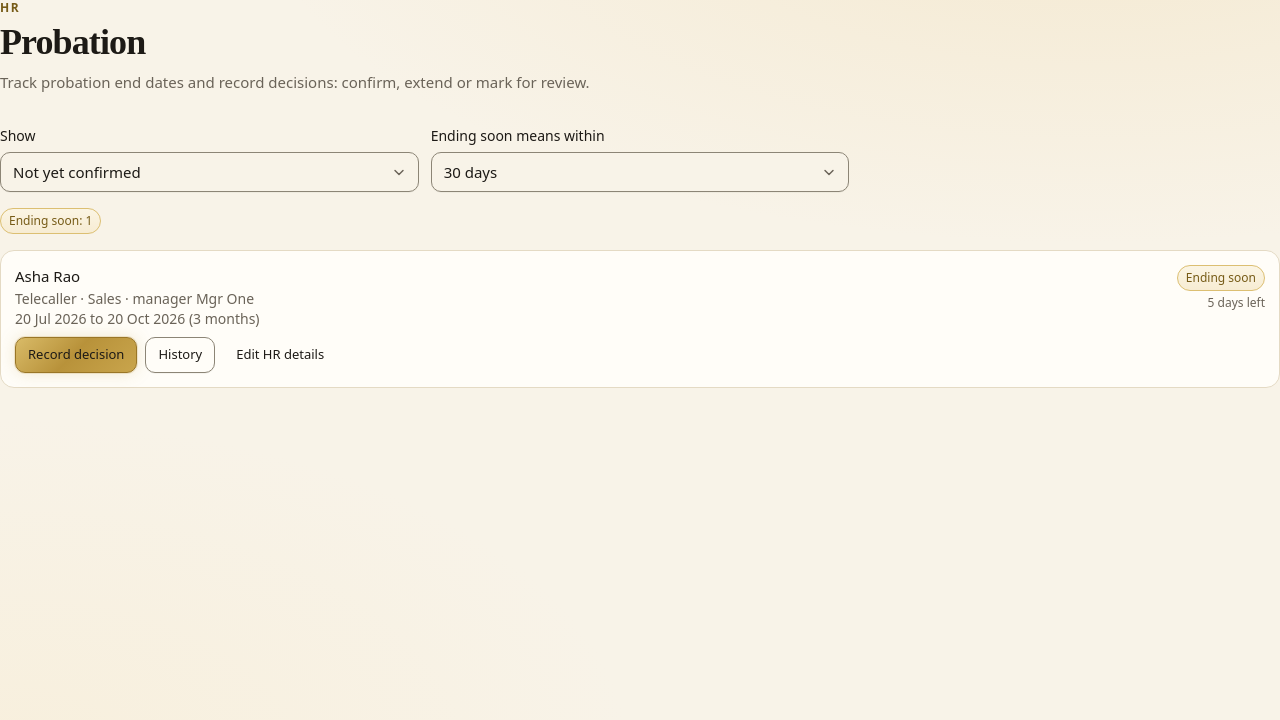
it: ProbationPage › sends the decision, shows success, and surfaces a server conflict without claiming success
Click the button "Record decision". click: (76, 354)
box: [15,336,137,372]
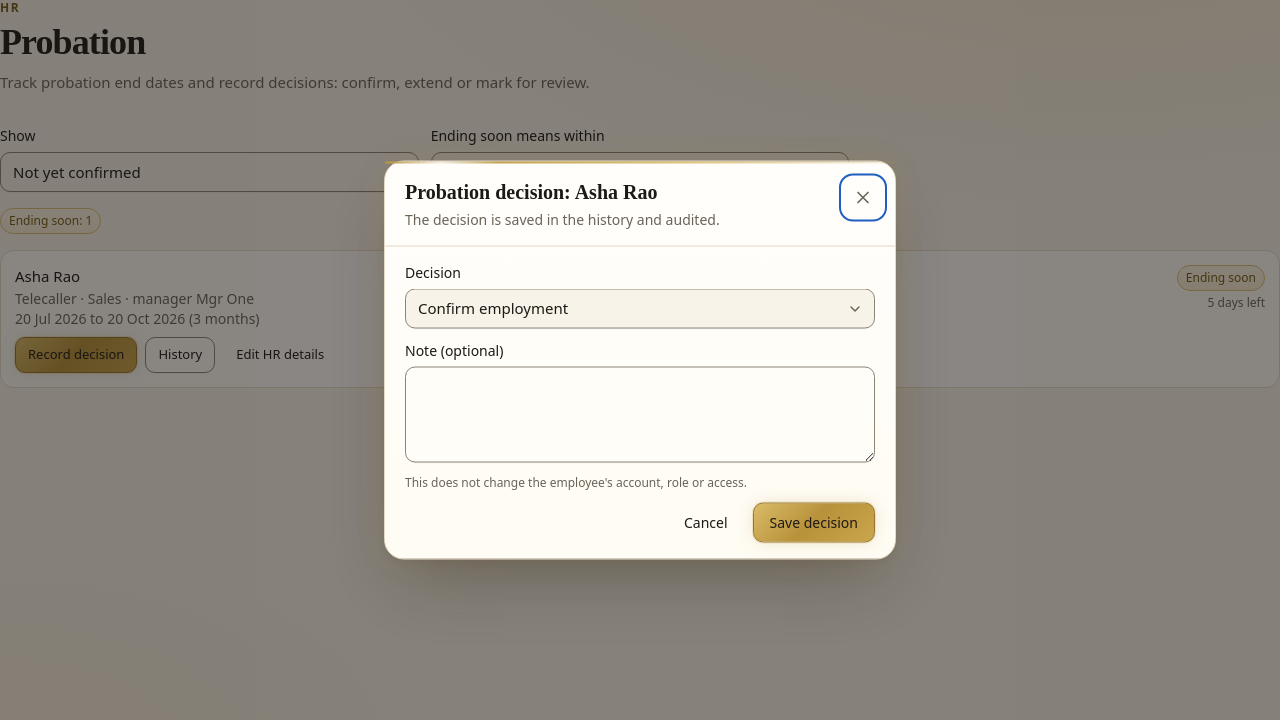
Click the button "Save decision". click: (814, 522)
box: [752,502,875,542]
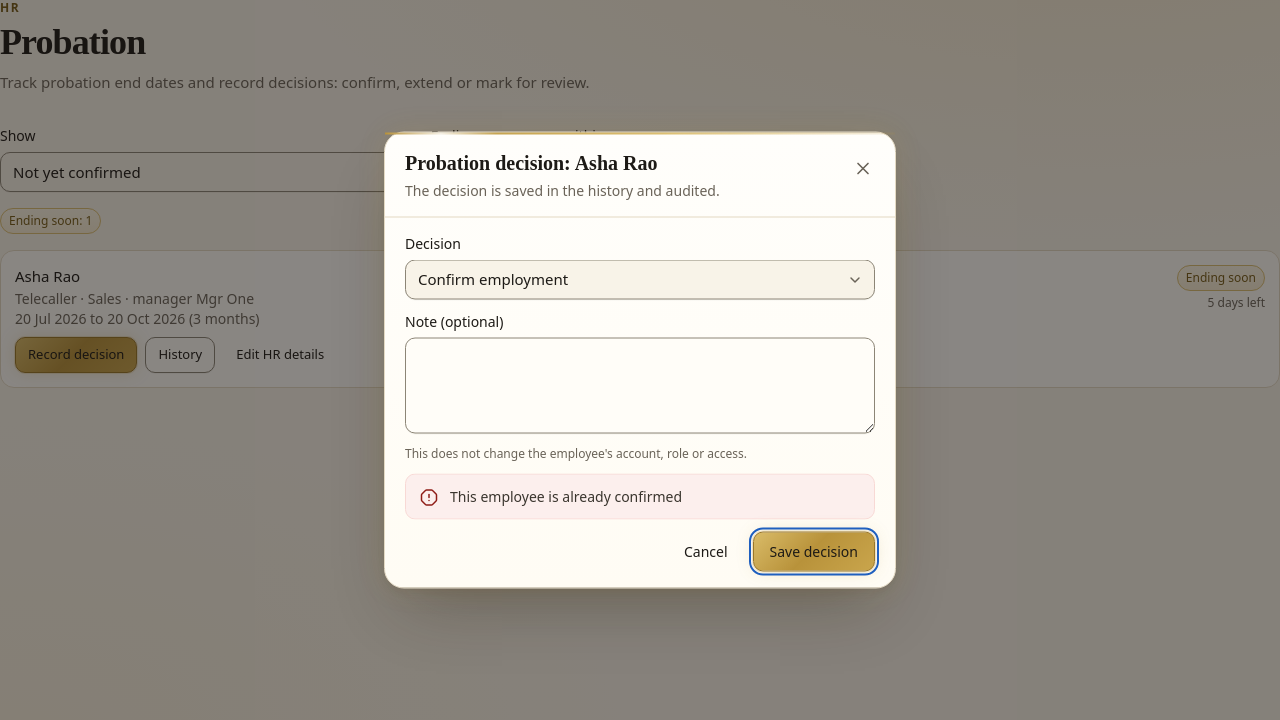
expect the text "This employee is already confirmed" is shown: met, box [450,486,682,506]
Click the button "Save decision". click: (814, 552)
box: [752,532,875,572]
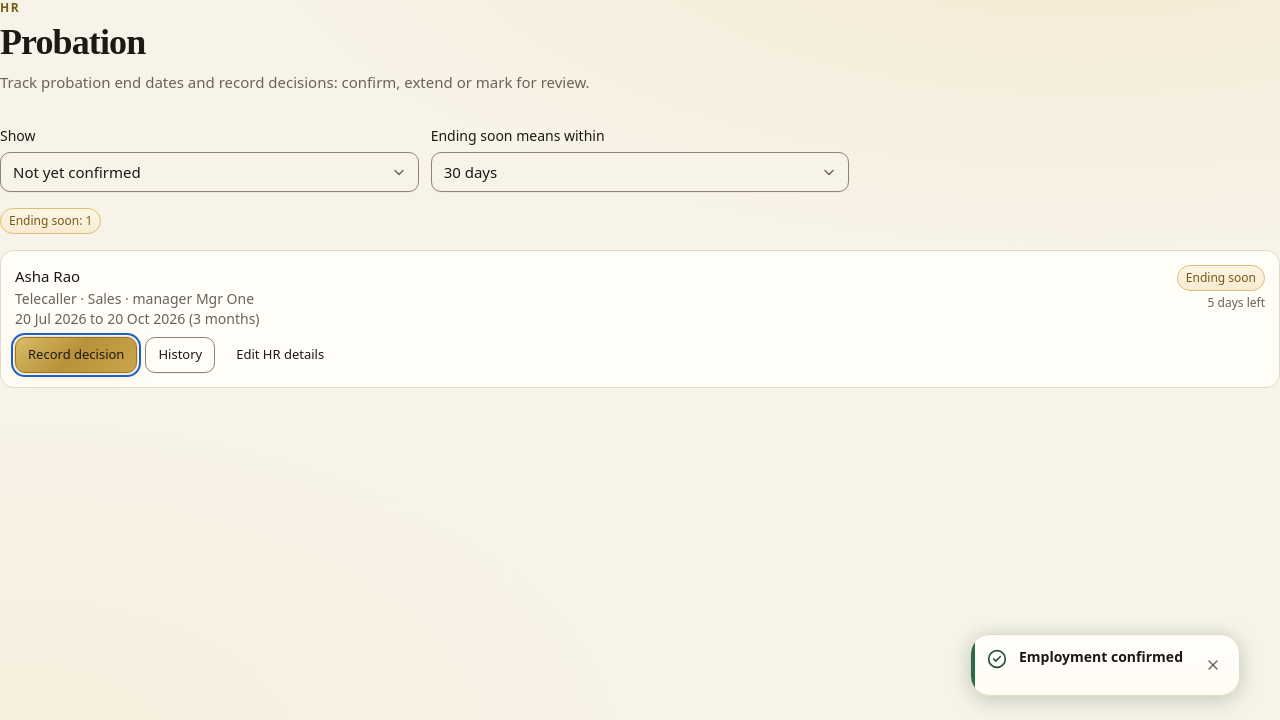
expect the text "Employment confirmed" is shown: met, box [1019,647,1183,667]
expect the dialog is gone: met
